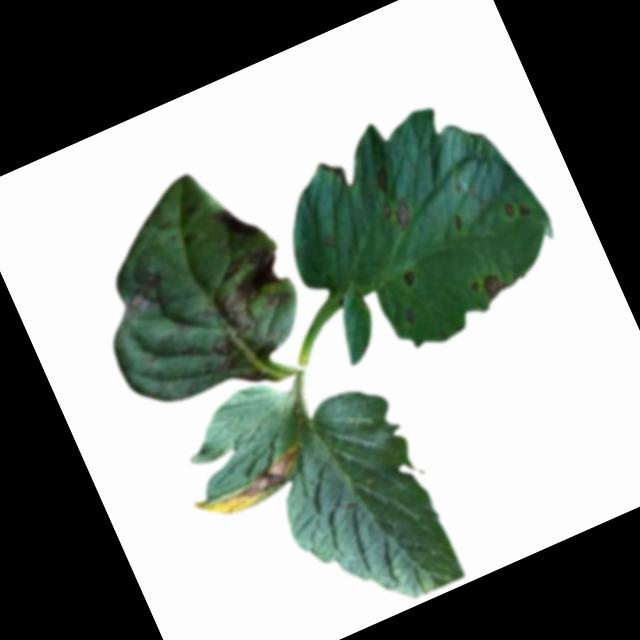Early_blight: (178, 243, 312, 378), (185, 443, 315, 531), (106, 265, 177, 327), (210, 200, 260, 249), (377, 193, 417, 237), (476, 268, 511, 306), (367, 163, 397, 199), (499, 196, 531, 227), (399, 268, 420, 292), (401, 304, 420, 326)
